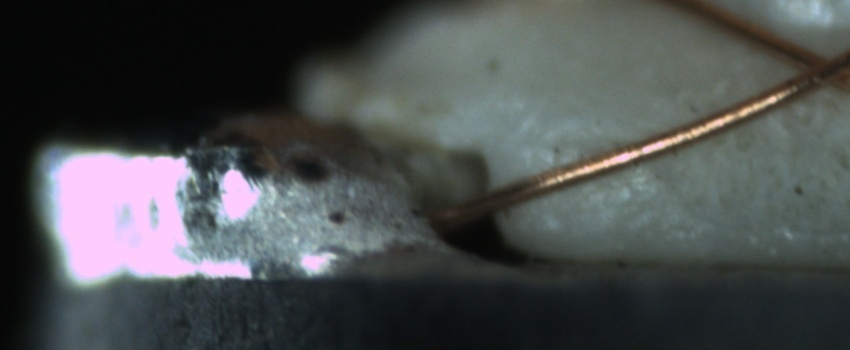CL: (776, 34, 850, 96)
